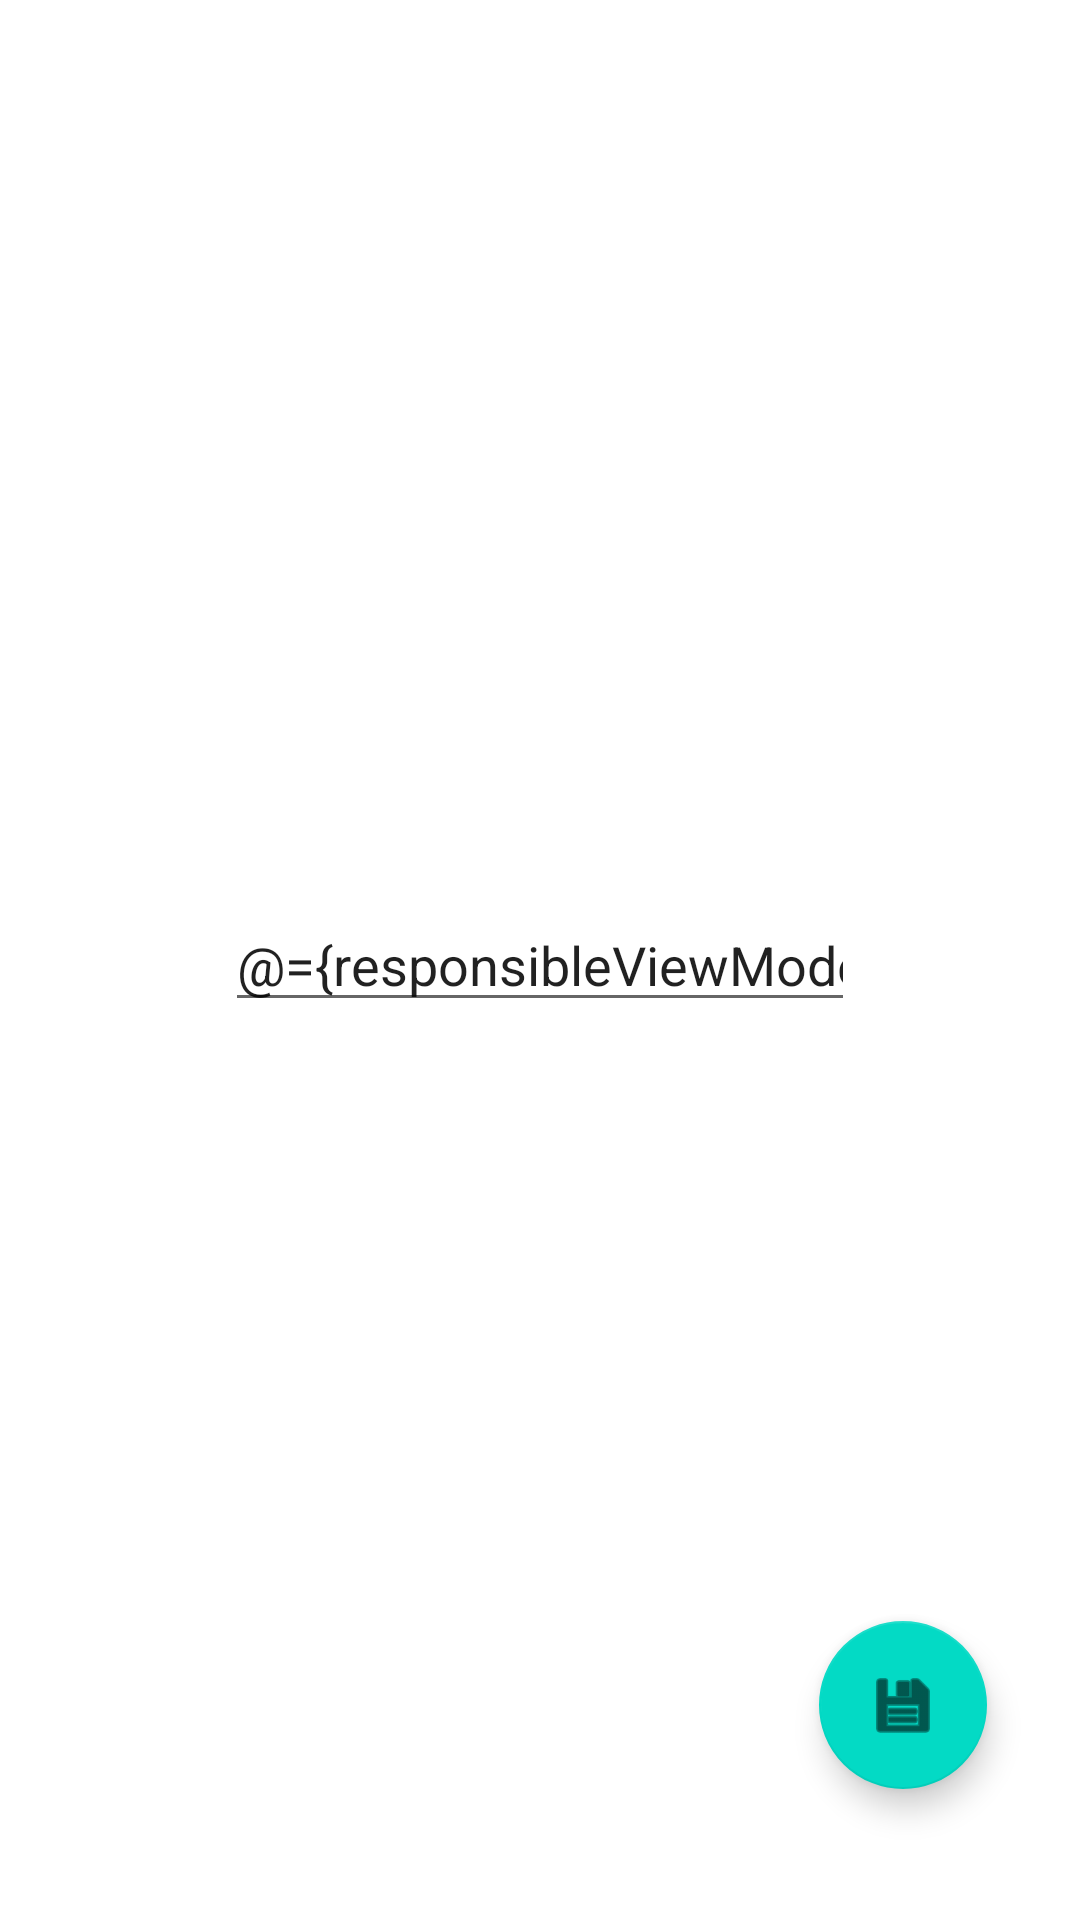

Icon bounding boxes for this 1080w x 1920h phone screenshot, format [left=x1, top=y1, right=x2, bottom=y2]:
save: [left=819, top=1621, right=987, bottom=1789]
